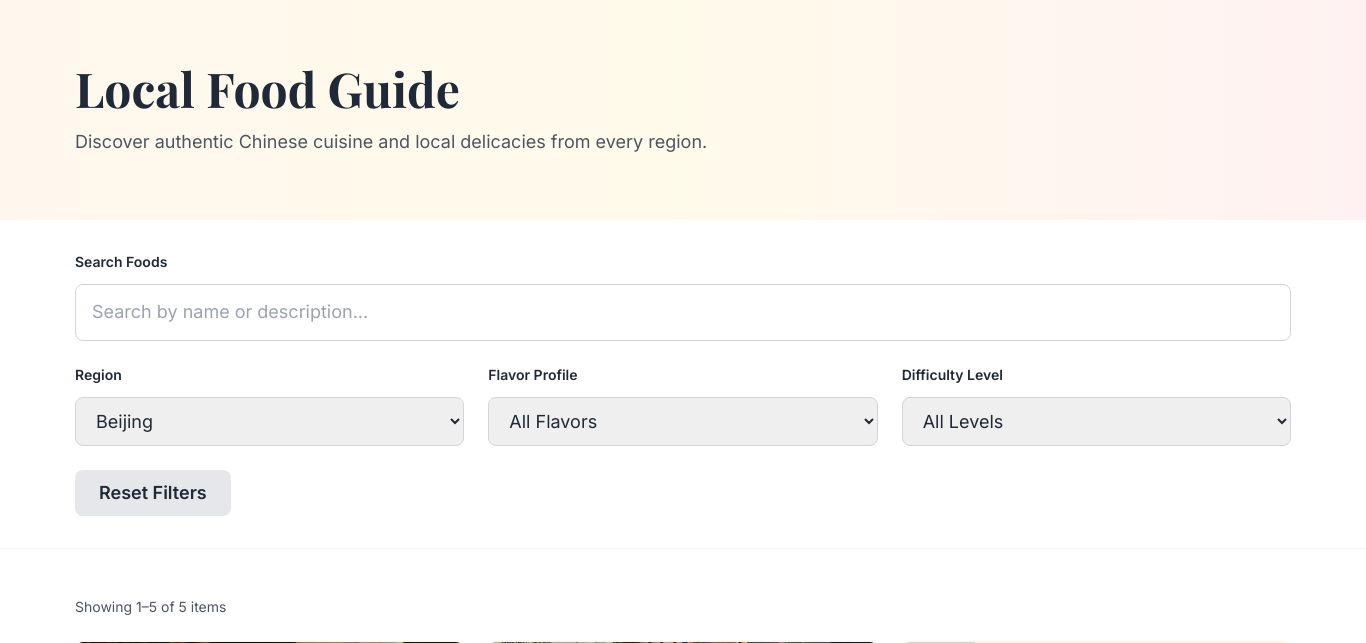
it: LocalFoodGuide Component › 71: reset button resets all filters at once
Select "Shanghai" in the dropdown with test id "destination-selector" at (270, 421), box [75,397,464,446]
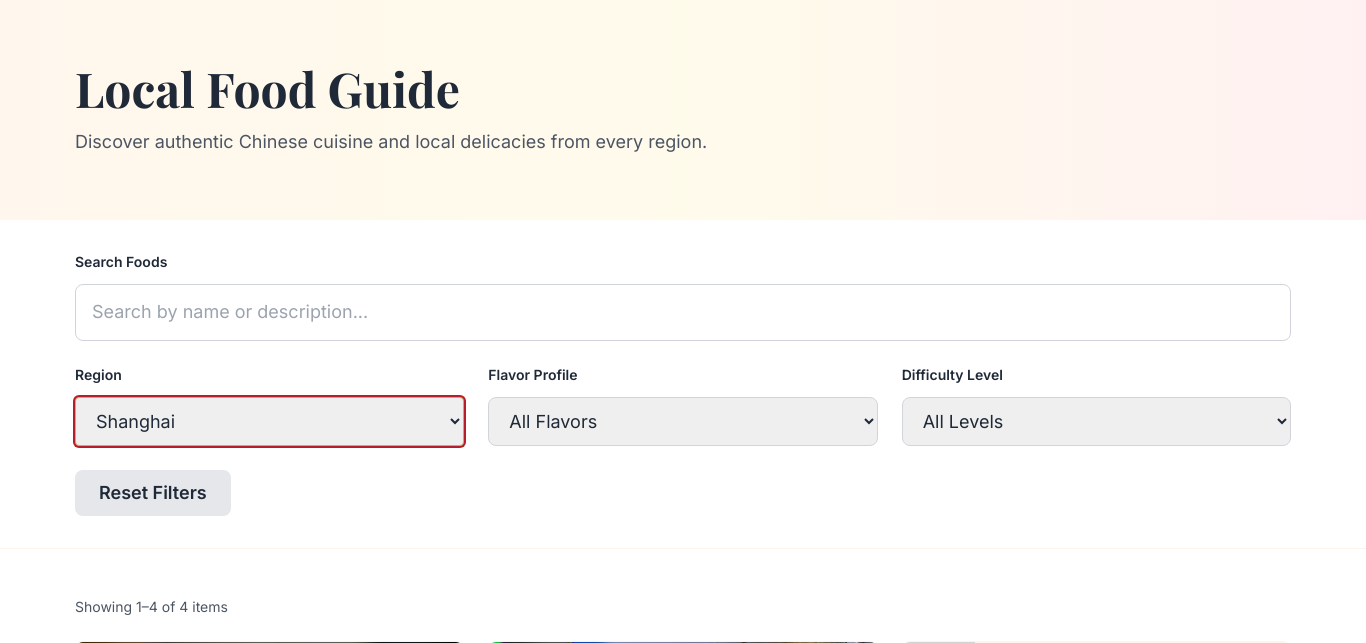
Select "Spicy" in the dropdown with test id "flavor-selector" at (683, 421), box [488,397,878,446]
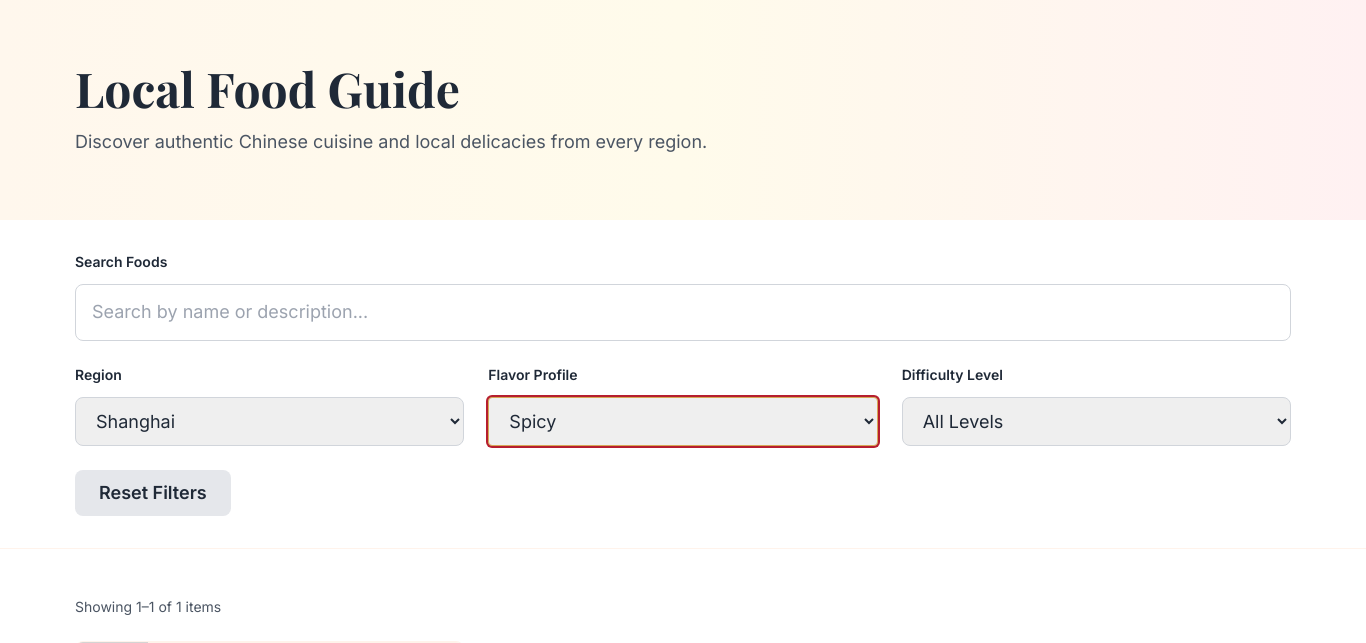
Select "Adventurous" in the dropdown with test id "difficulty-selector" at (1096, 421), box [902,397,1291,446]
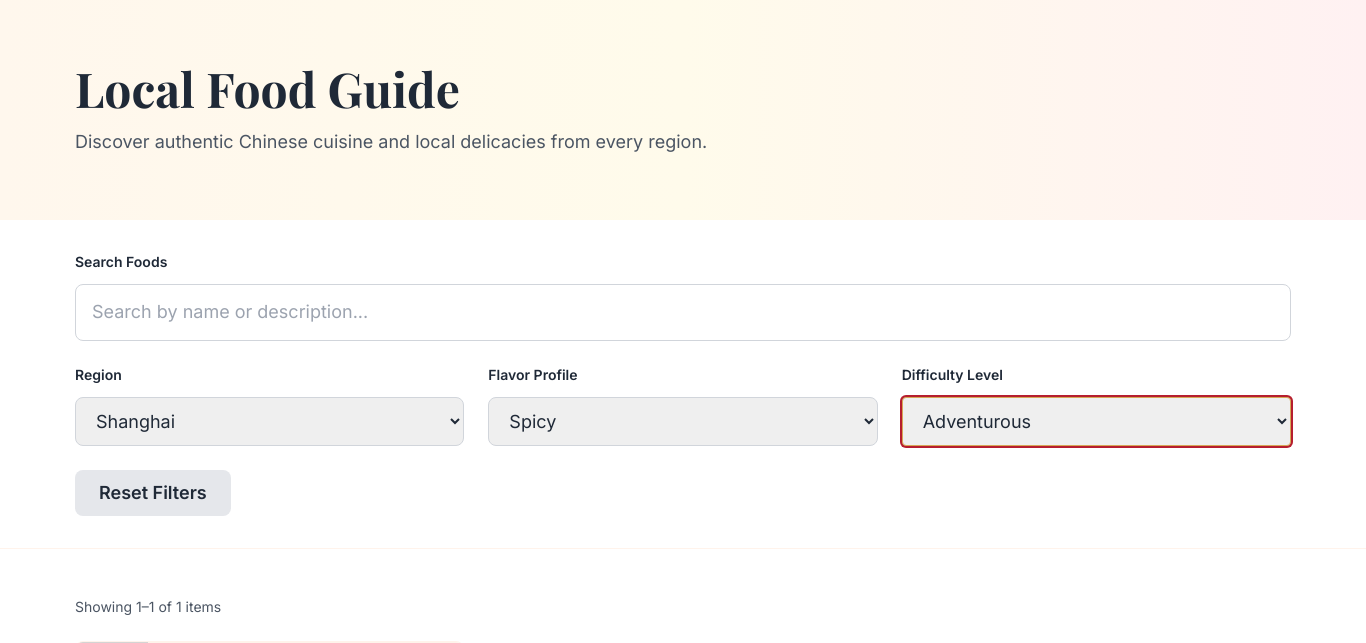
Type "test" into the field with test id "search-input".
click(683, 312); type("test")  # box [75,284,1291,341]
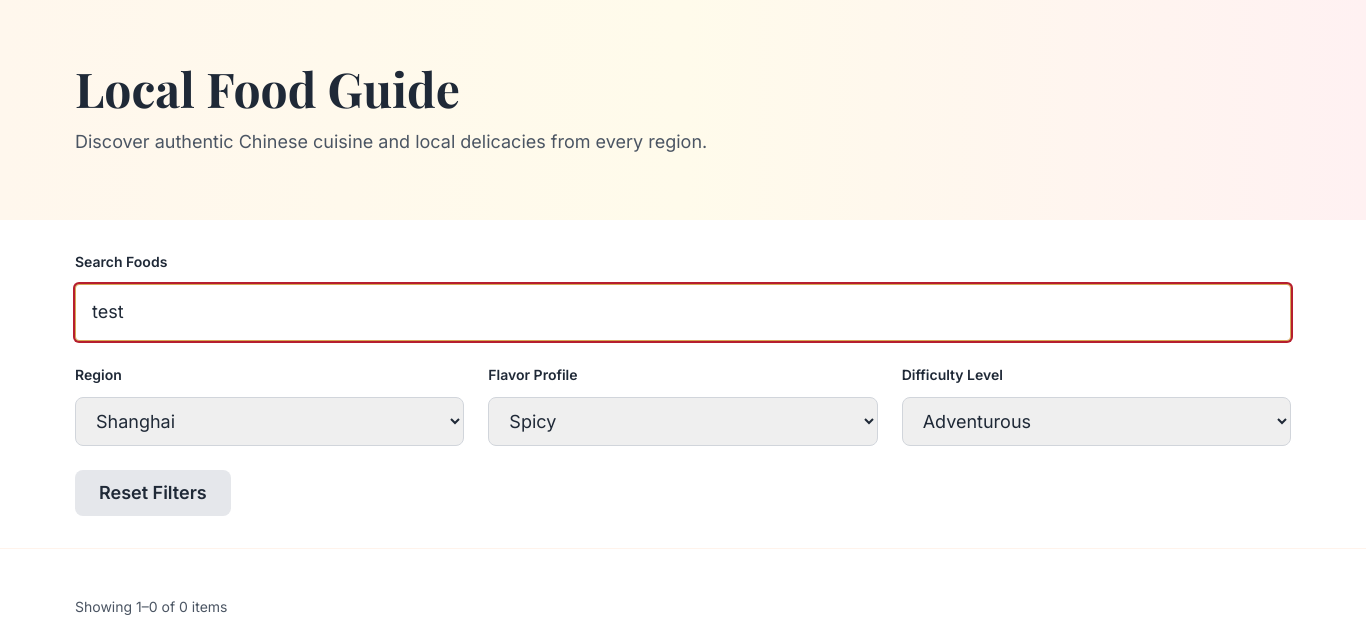
Click the button with test id "reset-filters-button".
click(153, 493)  # box [75,470,231,516]
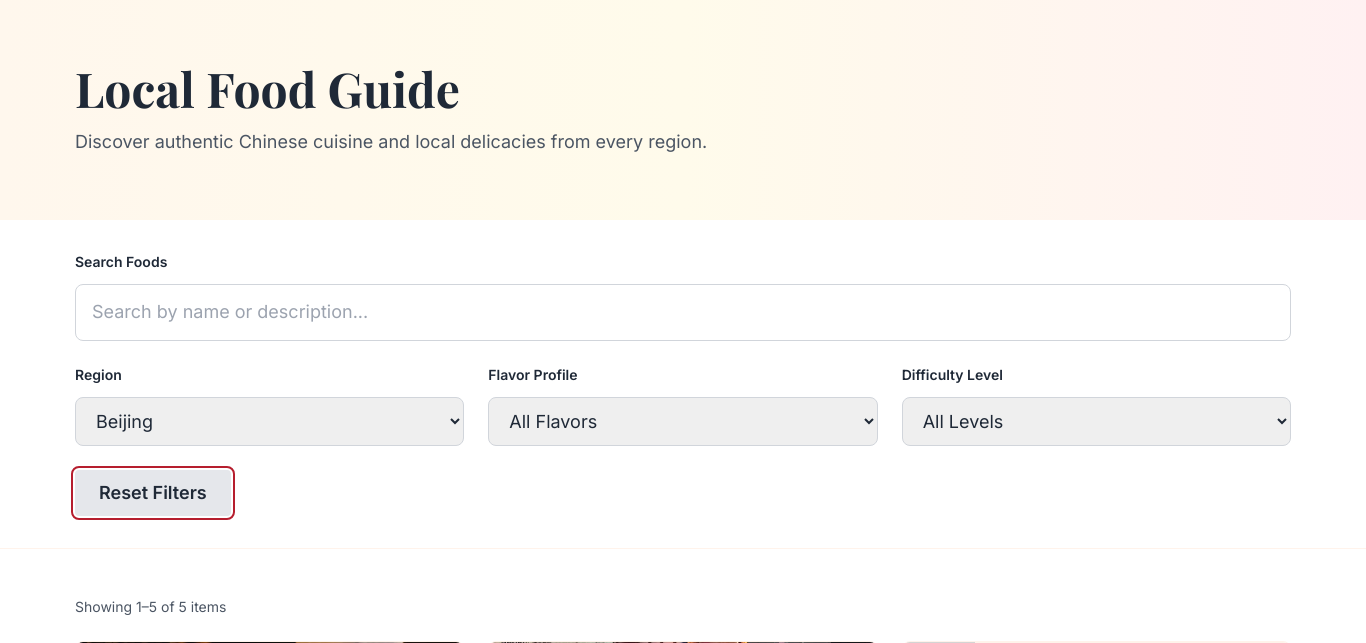
Now the field with test id "search-input" is empty, box [75,284,1291,341]
